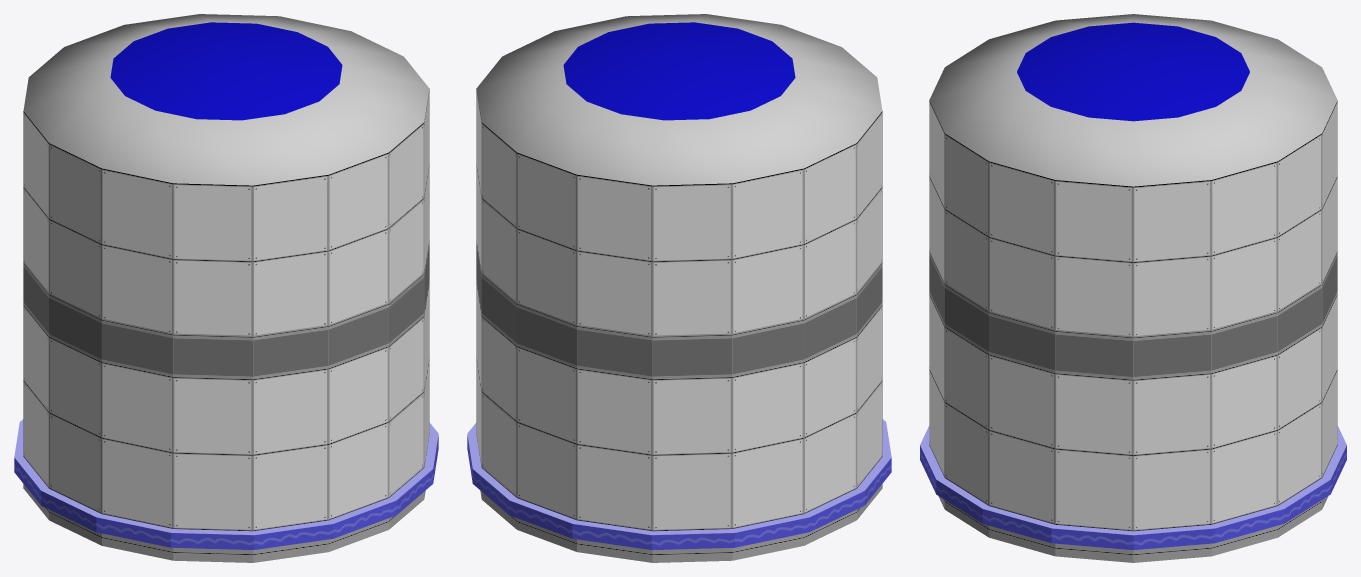
Rendered from Diorama.obj.
3 renders of one model, left to right at view 1: azimuth 30°, elevation 25°; view 2: azimuth 150°, elevation 25°; view 3: azimuth 270°, elevation 25°, orthographic.
Visible parts, largest first — view 1: Base_Cylinder; view 2: Base_Cylinder; view 3: Base_Cylinder.
Part boxes in pixels (x1,y1,x2,y2): Base_Cylinder: (14,14,438,562); Base_Cylinder: (467,14,891,562); Base_Cylinder: (920,14,1346,562).
Size of the model in its own units: 15.68 by 17.03 by 15.68.
